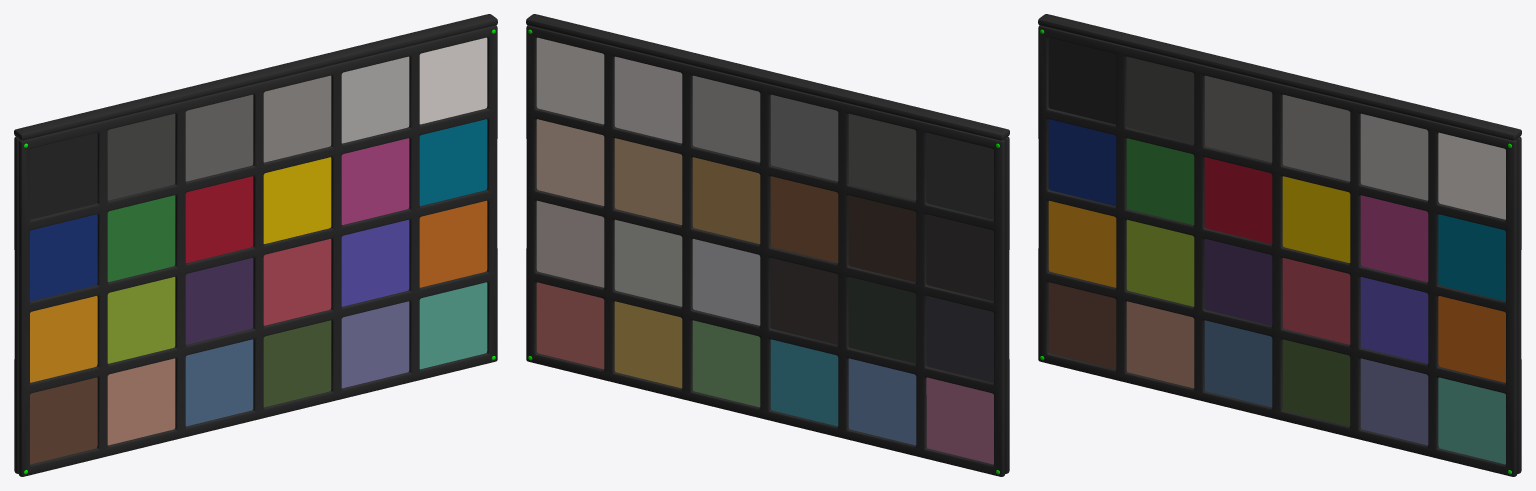
File: palette.glb
3 renders of one model, left to right at view 1: azimuth 30°, elevation 25°; view 2: azimuth 150°, elevation 25°; view 3: azimuth 330°, elevation 25°, orthographic.
Visible parts, largest first — view 1: color_0, palette; view 2: color_1, palette; view 3: color_0, palette.
Part boxes in pixels (x1,y1,x2,y2): color_0: (30,37,487,464); palette: (14,14,497,476); color_1: (536,37,993,464); palette: (526,14,1009,476); color_0: (1048,37,1505,464); palette: (1038,14,1521,476).
Size of the model in its own units: 0.459 by 0.3155 by 0.0143.
1 material, 1 textured.
